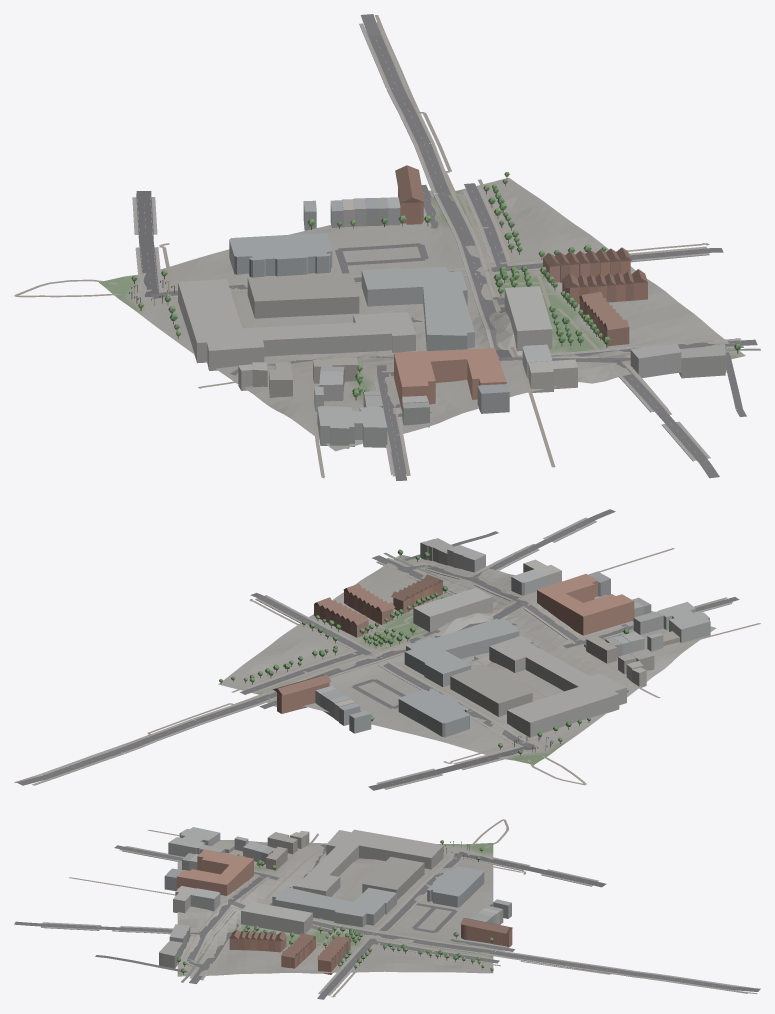
The model's file is tile_0_-4.glb.
The picture shows the model from 3 angles, top to bottom: view 1: azimuth 30°, elevation 25°; view 2: azimuth 150°, elevation 25°; view 3: azimuth 270°, elevation 25°; orthographic projection. The views are drawn at different scales.
Visible parts, largest first — view 1: buildings, terrain, roads, sidewalks, paths, props; view 2: buildings, terrain, roads, sidewalks, paths, props; view 3: buildings, terrain, roads, sidewalks, paths, props.
Part boxes in pixels (bbox=[...]): buildings: bbox=[178, 165, 726, 448]; terrain: bbox=[99, 177, 745, 451]; roads: bbox=[136, 14, 757, 480]; sidewalks: bbox=[132, 22, 743, 474]; paths: bbox=[14, 15, 760, 478]; props: bbox=[129, 172, 741, 400]; buildings: bbox=[273, 538, 710, 737]; terrain: bbox=[218, 555, 716, 764]; roads: bbox=[17, 509, 739, 790]; sidewalks: bbox=[31, 517, 731, 789]; paths: bbox=[14, 544, 760, 785]; props: bbox=[219, 549, 629, 755]; buildings: bbox=[159, 827, 512, 974]; terrain: bbox=[177, 840, 493, 976]; roads: bbox=[14, 844, 760, 999]; sidewalks: bbox=[41, 846, 752, 995]; paths: bbox=[69, 819, 757, 997]; props: bbox=[176, 840, 493, 974].
Bounding box in the file's own units: 357 × 21.36 × 606.
